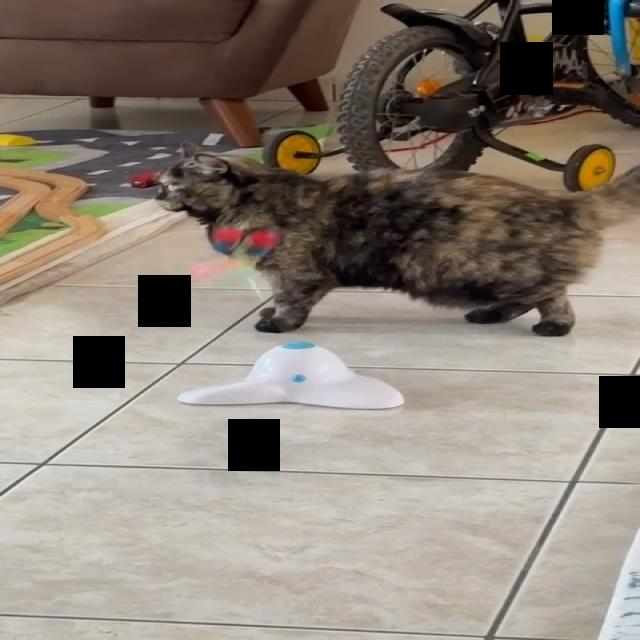authorized: (151, 141, 637, 337)
